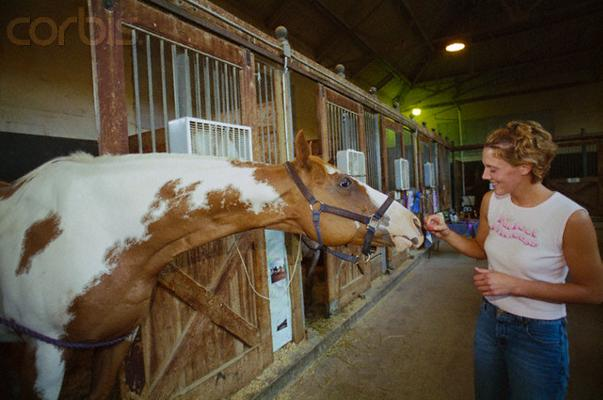person: (431, 120, 600, 400)
